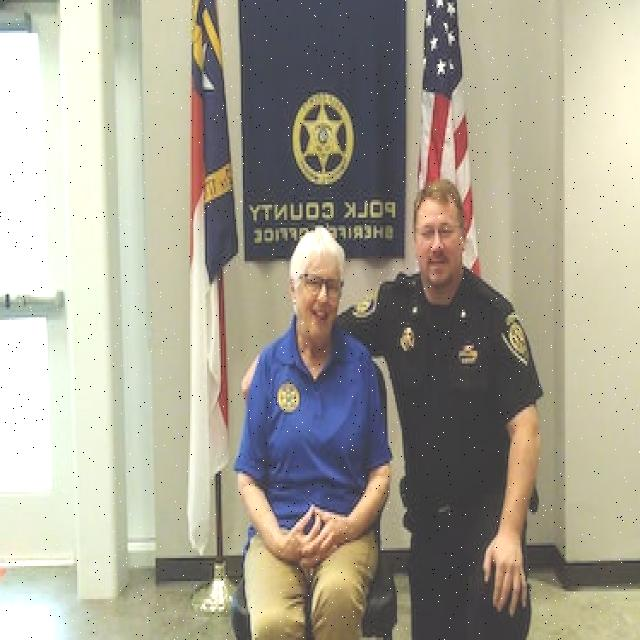police: (367, 170, 558, 623)
